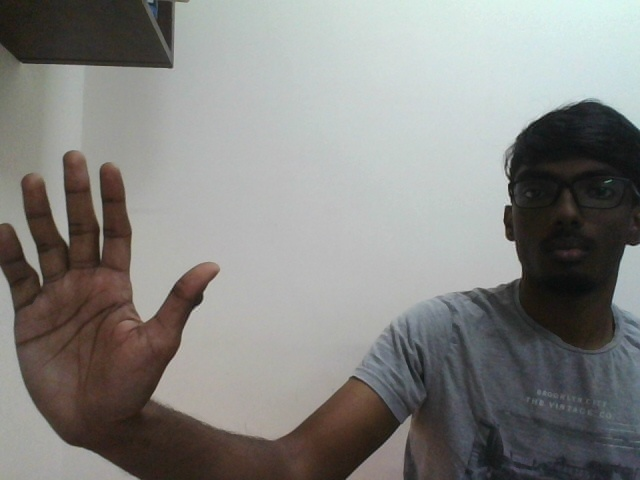Hello: (1, 145, 221, 444)
